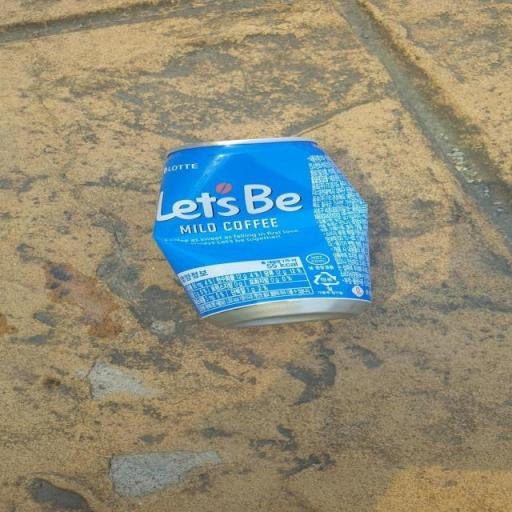metal: (54, 110, 413, 356)
